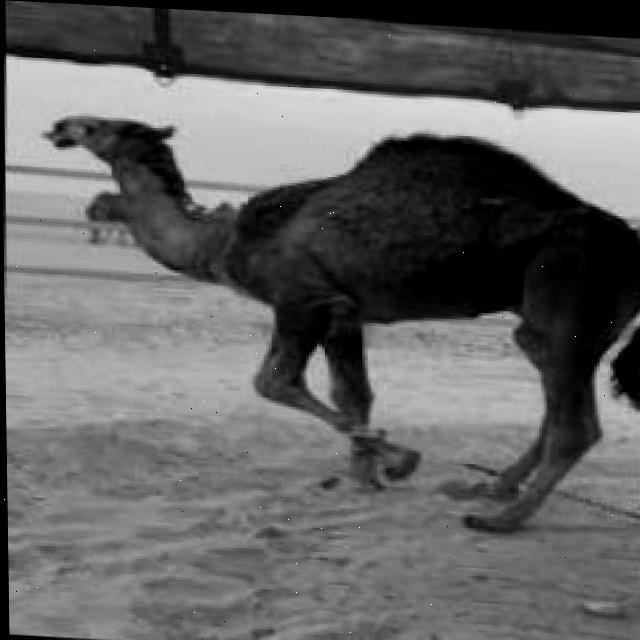Camel: (39, 108, 640, 540)
